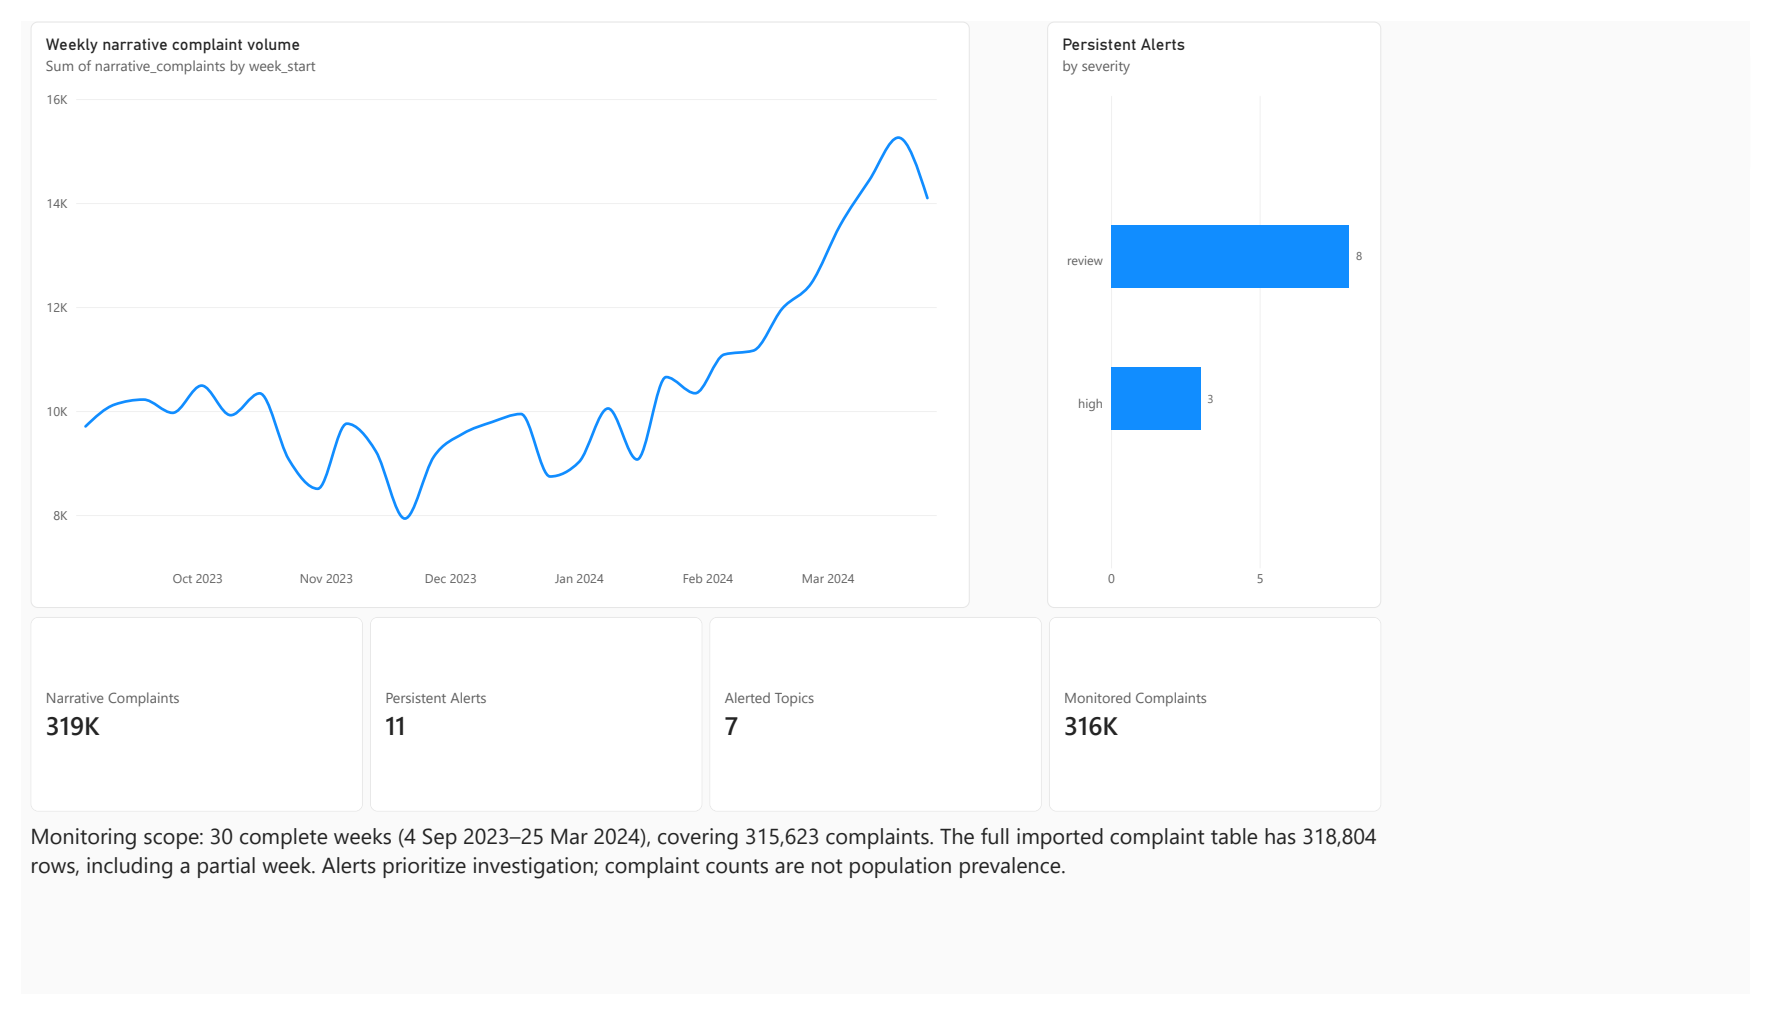

The page's visual inventory and layout, read from the dashboard file:
{"tool":"powerbi","page":{"name":"Complaint Overview","canvas":[1920,1080],"ordinal":0},"visuals":[{"type":"lineChart","title":"Weekly narrative complaint volume","fields":{"Category":["weekly_overview.week_start"],"Y":["Sum(weekly_overview.narrative_complaints)"]},"box":[10.5,0,1043,650.6],"z":0},{"type":"cardVisual","fields":{"Data":["complaints.Narrative Complaints","alerts.Persistent Alerts","alerts.Alerted Topics","weekly_overview.Monitored Complaints"]},"box":[10.5,661,1500,216.3],"z":1000},{"type":"clusteredBarChart","fields":{"Category":["alerts.severity"],"Y":["alerts.Persistent Alerts"]},"box":[1139,0,371.5,650.6],"z":2000},{"type":"textbox","box":[10,887,1500,193],"z":3000}]}

Visuals, with their boxes in screenshot pixels (x1, y1, x2, y2), scaled from the page's 1920x1080 canvas onto the 1772x1016 screenshot:
"Weekly narrative complaint volume" lineChart: (10, 0, 972, 612)
cardVisual - complaints.Narrative Complaints x alerts.Persistent Alerts: (10, 622, 1394, 825)
clusteredBarChart - alerts.severity x alerts.Persistent Alerts: (1051, 0, 1394, 612)
textbox: (9, 834, 1394, 1015)
